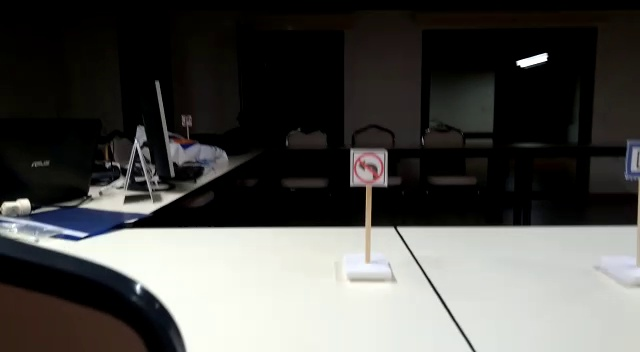sola_donulmez: (351, 148, 388, 187)
